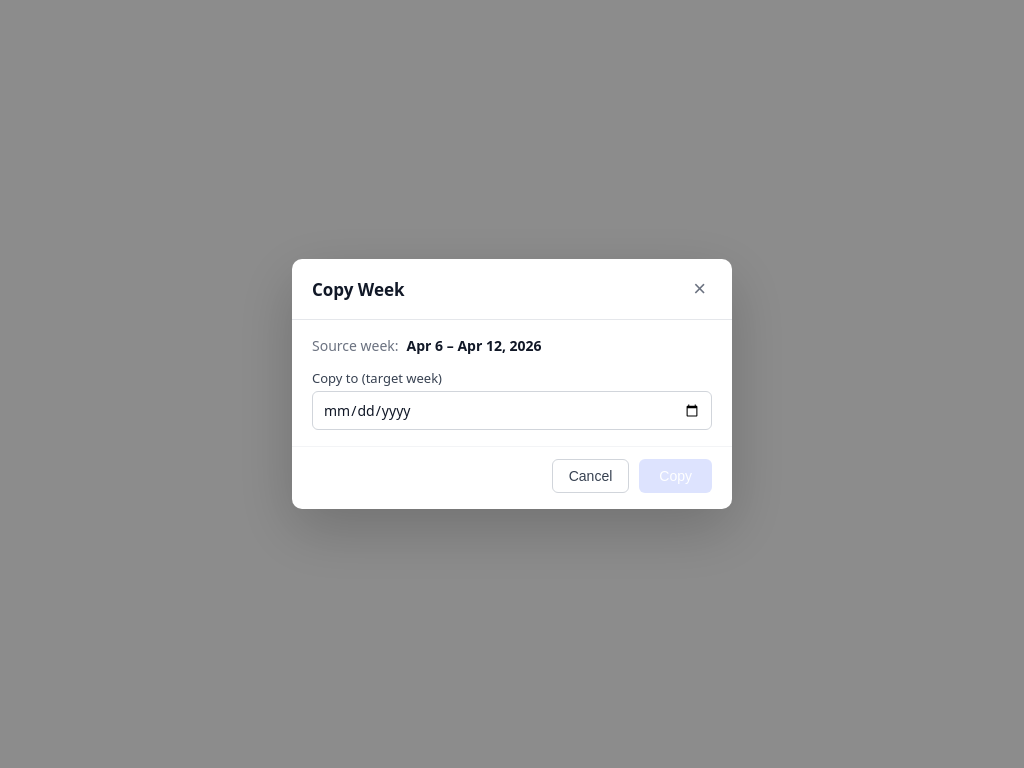
Test: CopyWeekModal — Copy Week › prevents copying a week to itself
Note: Set target to same week as source
Type "2026-04-06" into the date field labelled "Copy to (target week)".
click(512, 410); type("2026-04-06")  # box [312,391,712,430]
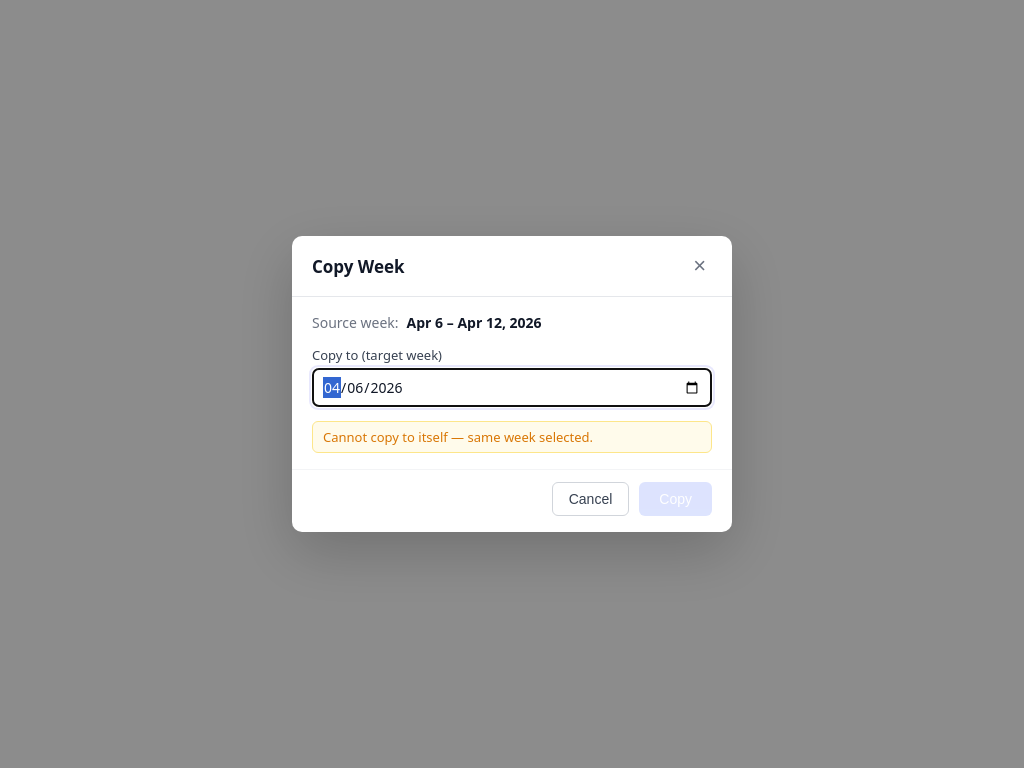
Check: the button "Copy" is disabled, box [639,482,712,516]
Check: the text "Cannot copy to itself — same week selected." is shown, box [312,421,712,453]
